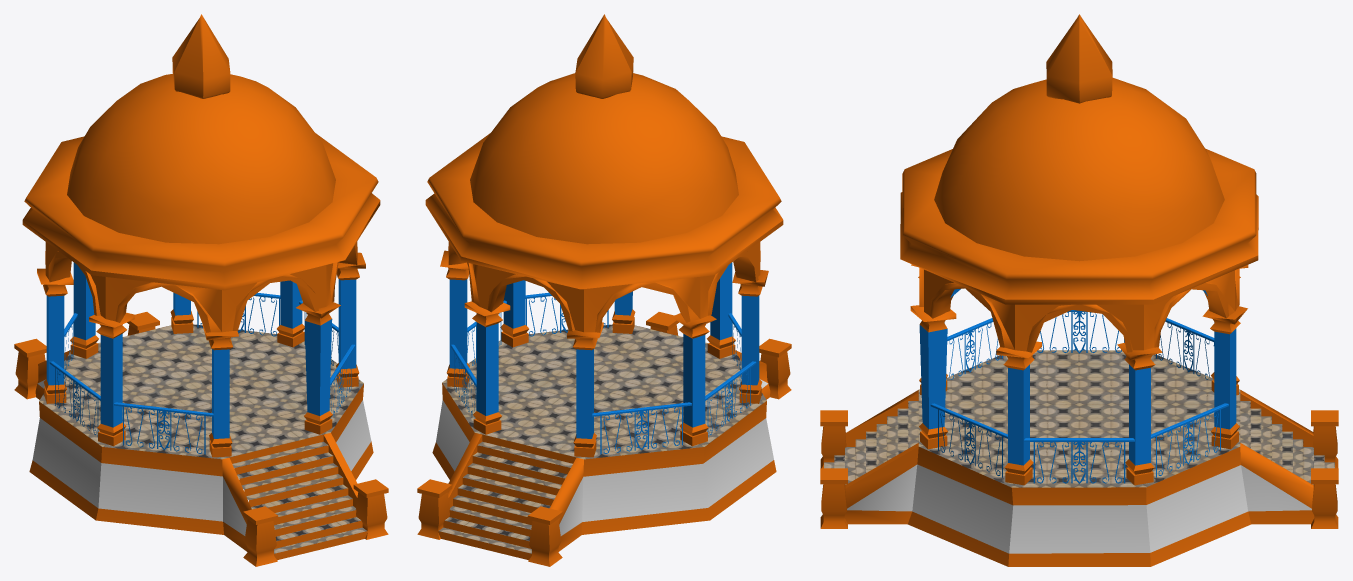
The model's file is gazebo_LOD2.fbx.
3 renders of one model, left to right at view 1: azimuth 30°, elevation 25°; view 2: azimuth 150°, elevation 25°; view 3: azimuth 270°, elevation 25°, orthographic. The views are drawn at different scales.
Parts seen in each view (by area): view 1: gazebo_LOD2; view 2: gazebo_LOD2; view 3: gazebo_LOD2.
Part boxes in pixels (x1,y1,x2,y2): gazebo_LOD2: (14, 14, 388, 566); gazebo_LOD2: (417, 14, 791, 566); gazebo_LOD2: (820, 14, 1338, 566).
Bounding box in the file's own units: 849 × 1259 × 1230.
